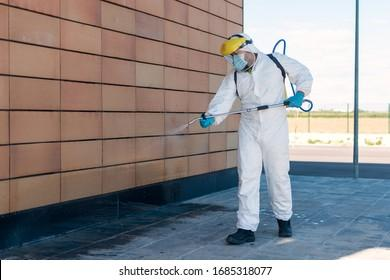gloves: (284, 92, 303, 108), (200, 113, 216, 128)
